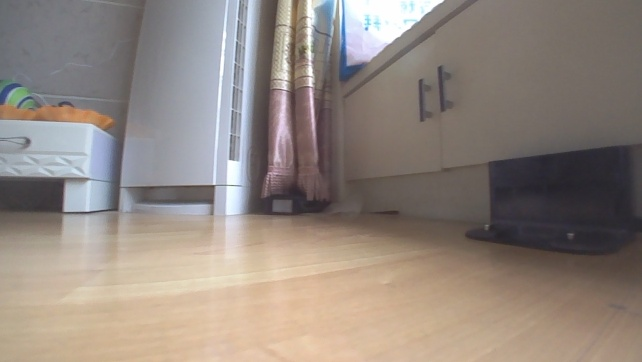charger: (464, 143, 635, 257)
